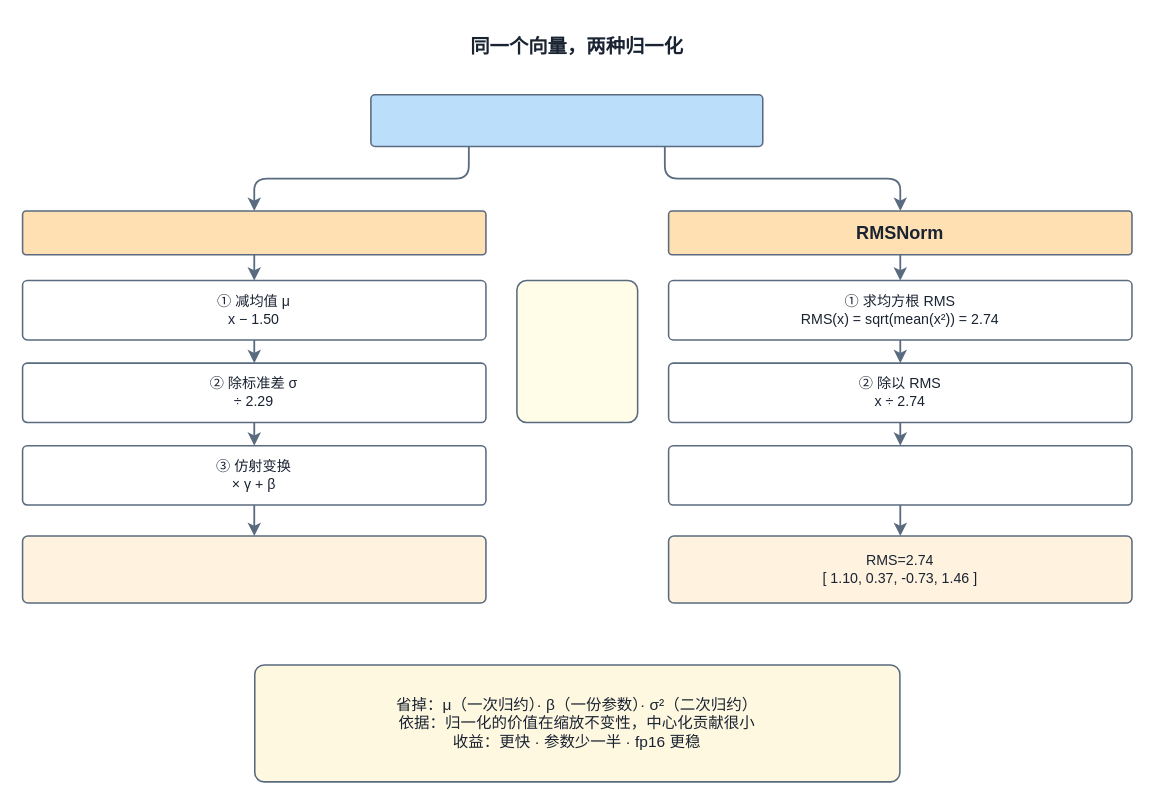
This 1156x805 diagram has some shape labels left out. The box of each missing label's shape, as (x1, y1, x2, y2) in pixels:
LayerNorm: (21, 209, 486, 255)
LayerNorm (x−μ)/σ·γ+β RMSNorm x/RMS·γ: (515, 279, 638, 423)
x = [3.0, 1.0, -2.0, 4.0]: (369, 93, 763, 147)
μ=1.50 σ=2.29 [ 0.65, -0.22, -1.53, 1.09 ]: (21, 535, 486, 603)
③ 缩放 × γ: (667, 444, 1132, 505)
